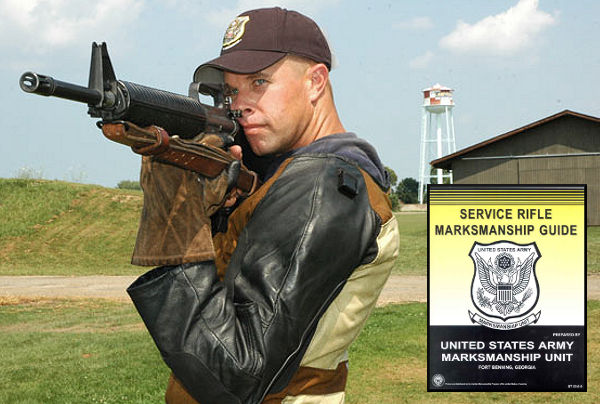Rifle: (17, 40, 249, 152)
